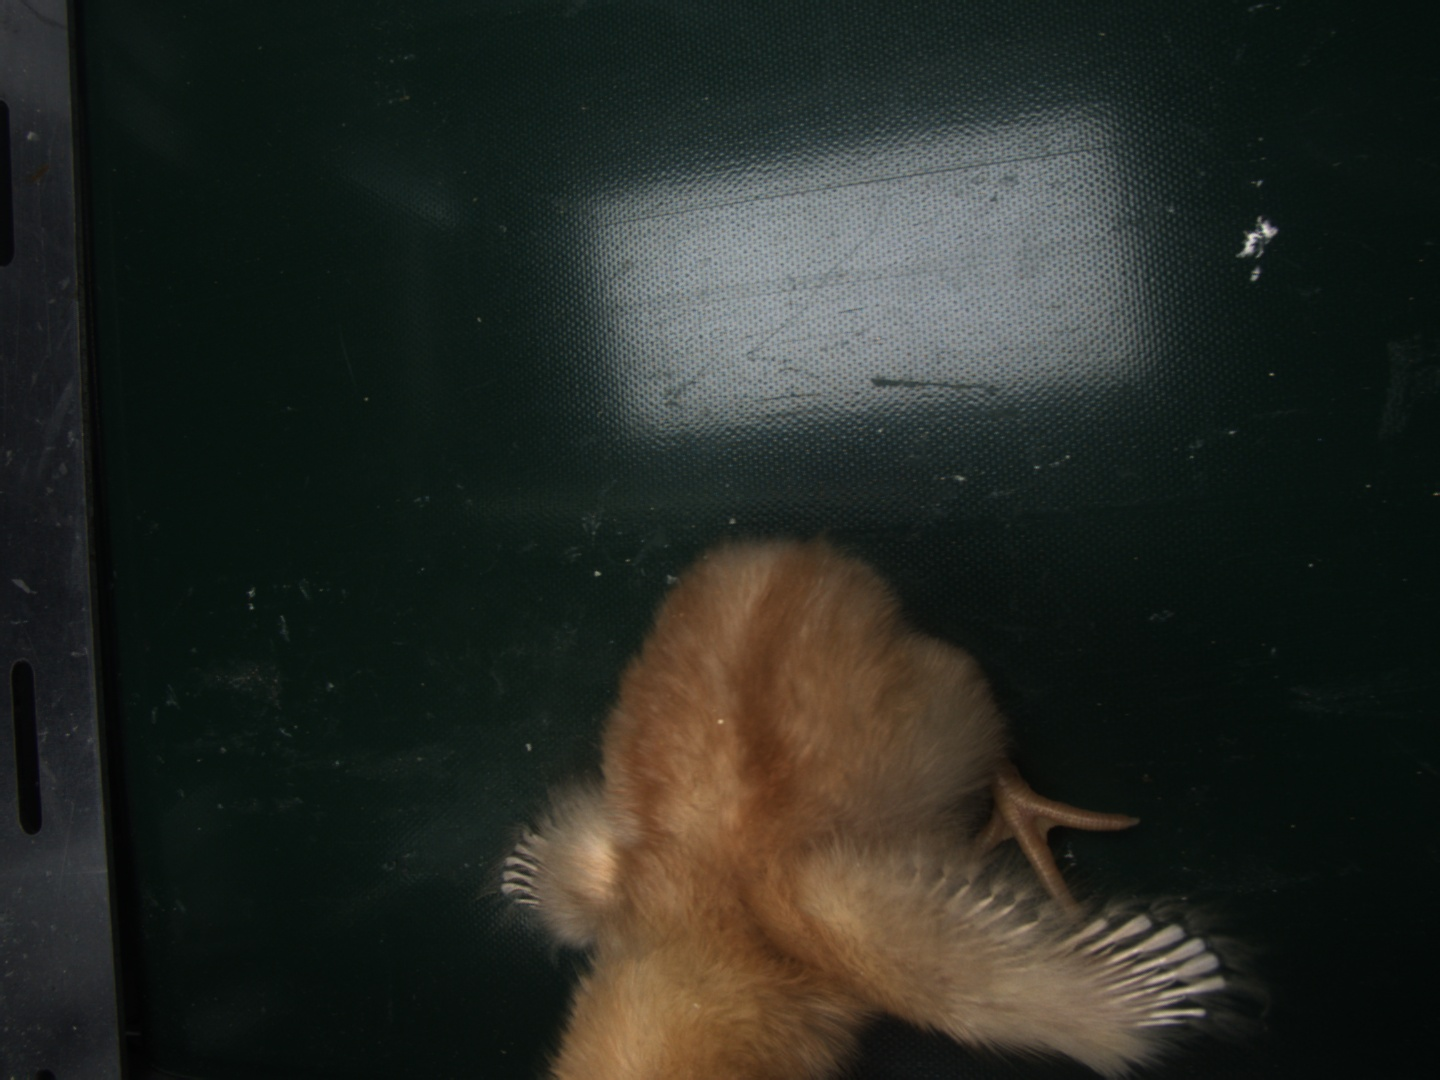female: (1054, 912, 1225, 1027)
